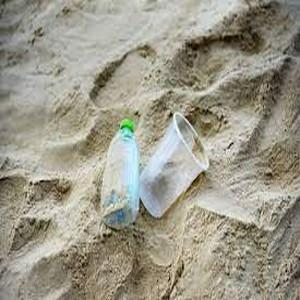Plastic: (100, 115, 141, 229)
